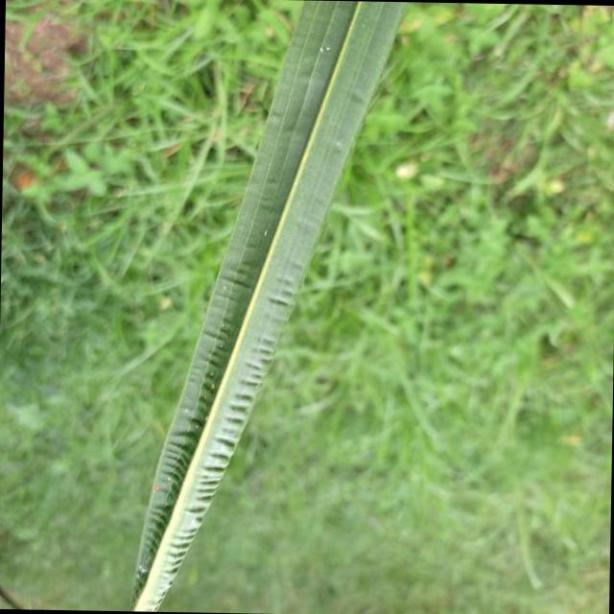Boron: (123, 0, 405, 614)
